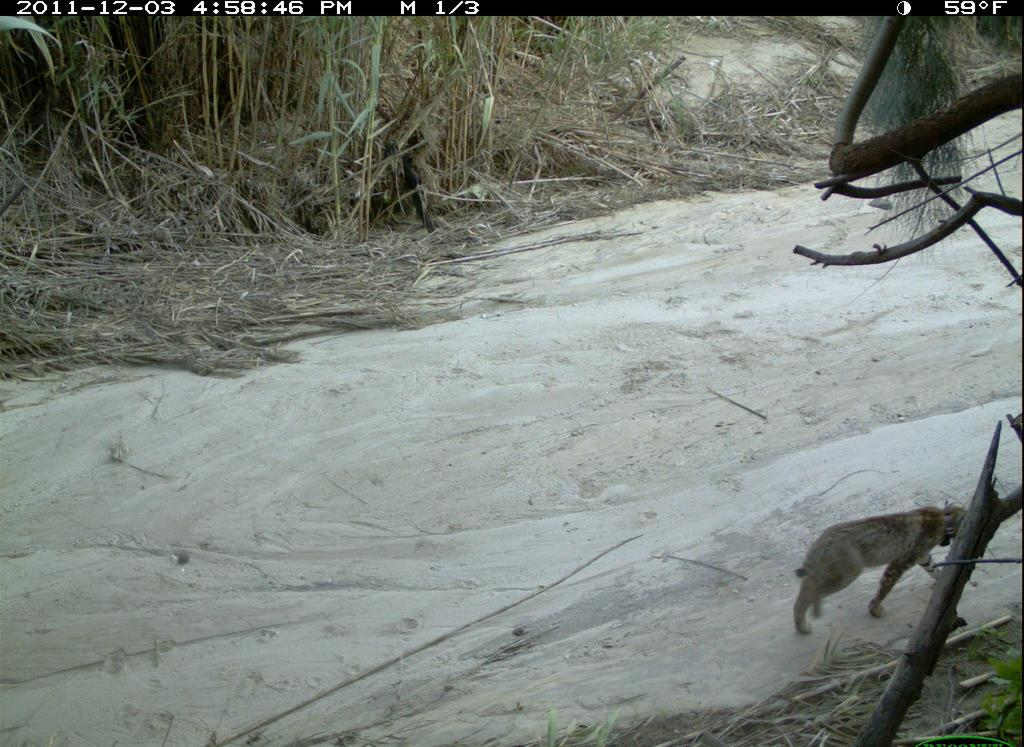bobcat: (784, 498, 984, 637)
